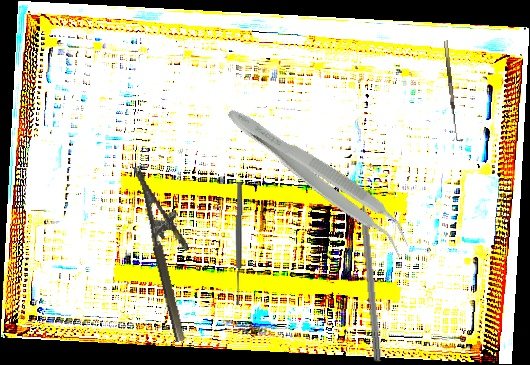Hook Surgical: (443, 39, 464, 142)
Needle Holder: (133, 159, 209, 343)
Pusher: (357, 175, 384, 363)
Surgical Spoon: (233, 181, 244, 306)
Tissue Forceps: (216, 100, 421, 259)
